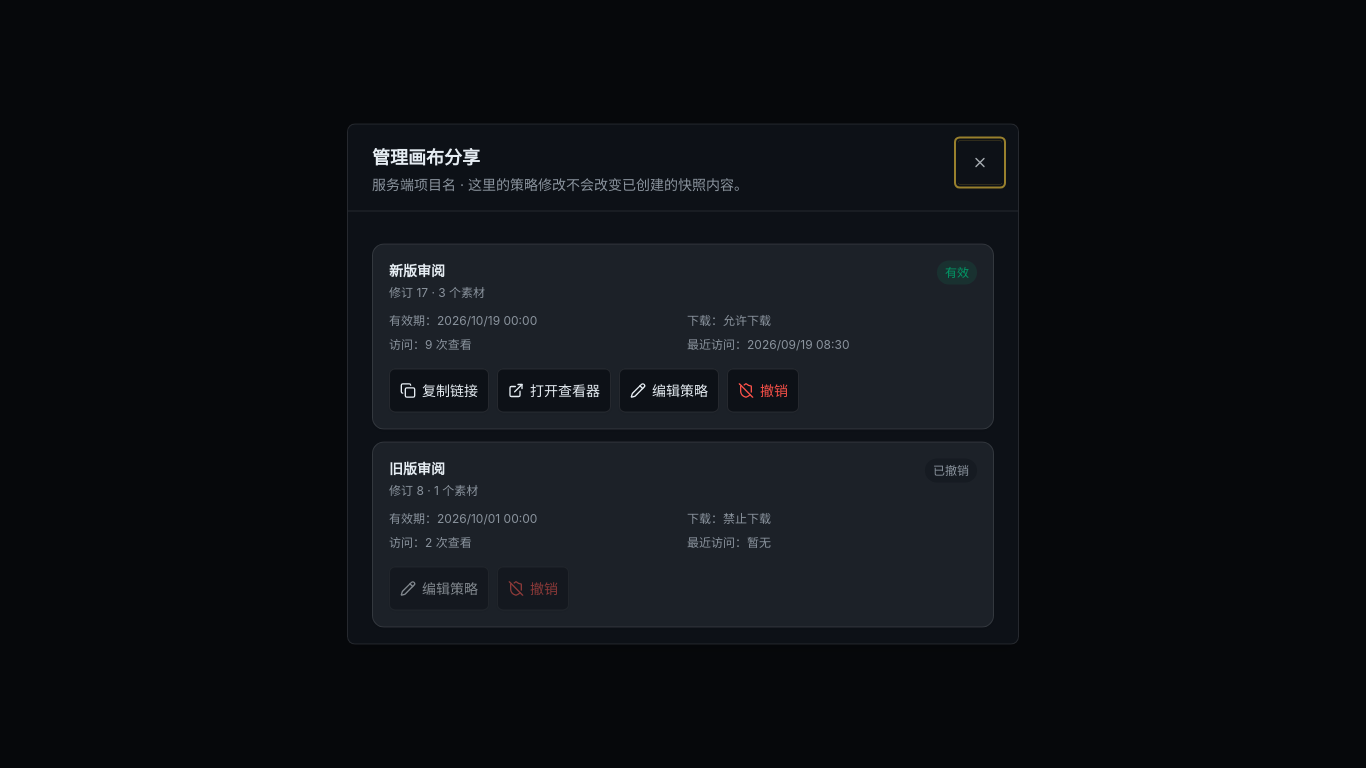
Test: canvas share owner UI › offers selectable fallback text after clipboard failure without logging the URL
The width and height of the screenshot is (1366, 768).
Click the button with aria-label "复制链接 新版审阅". click: (439, 390)
box: [389,368,489,412]
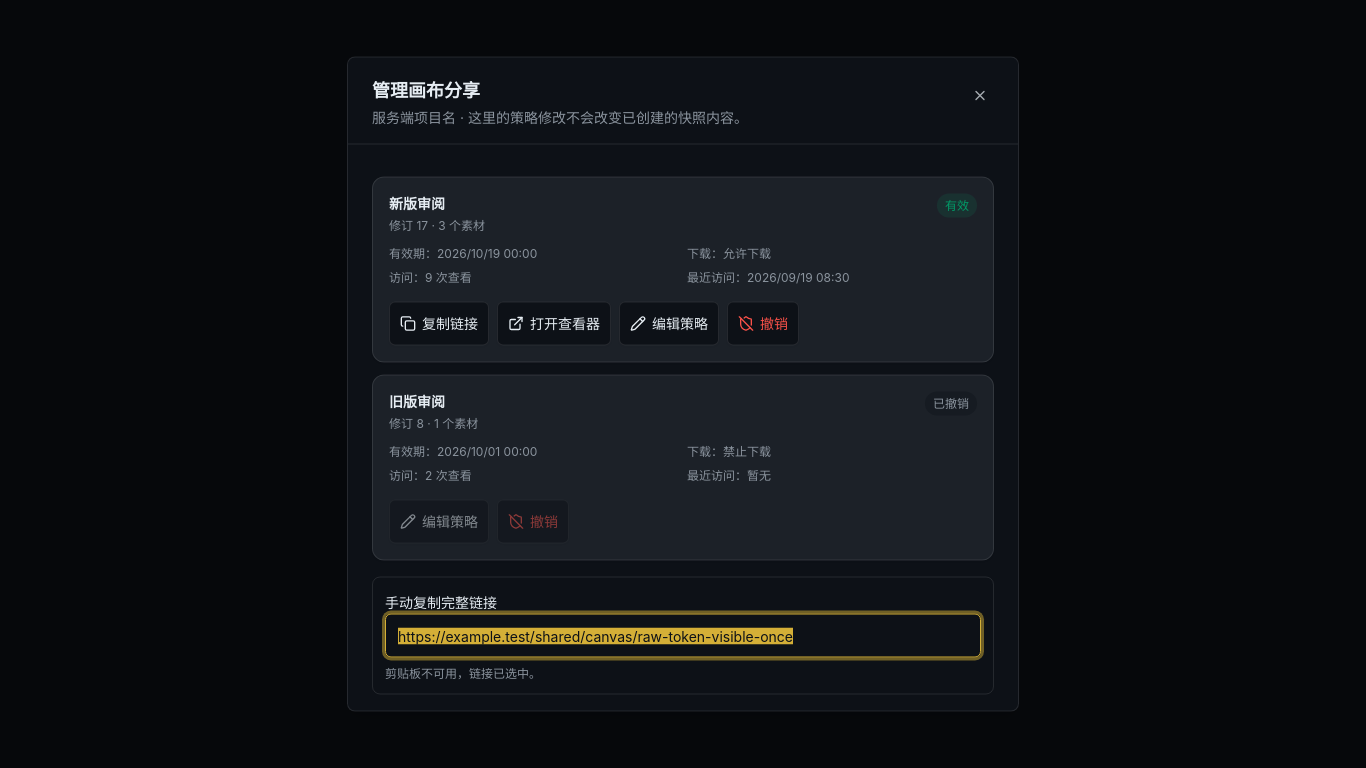
Expected: the field labelled "手动复制完整链接" holds "https://example.test/shared/canvas/raw-token-visible-once", [385,614,981,658]
